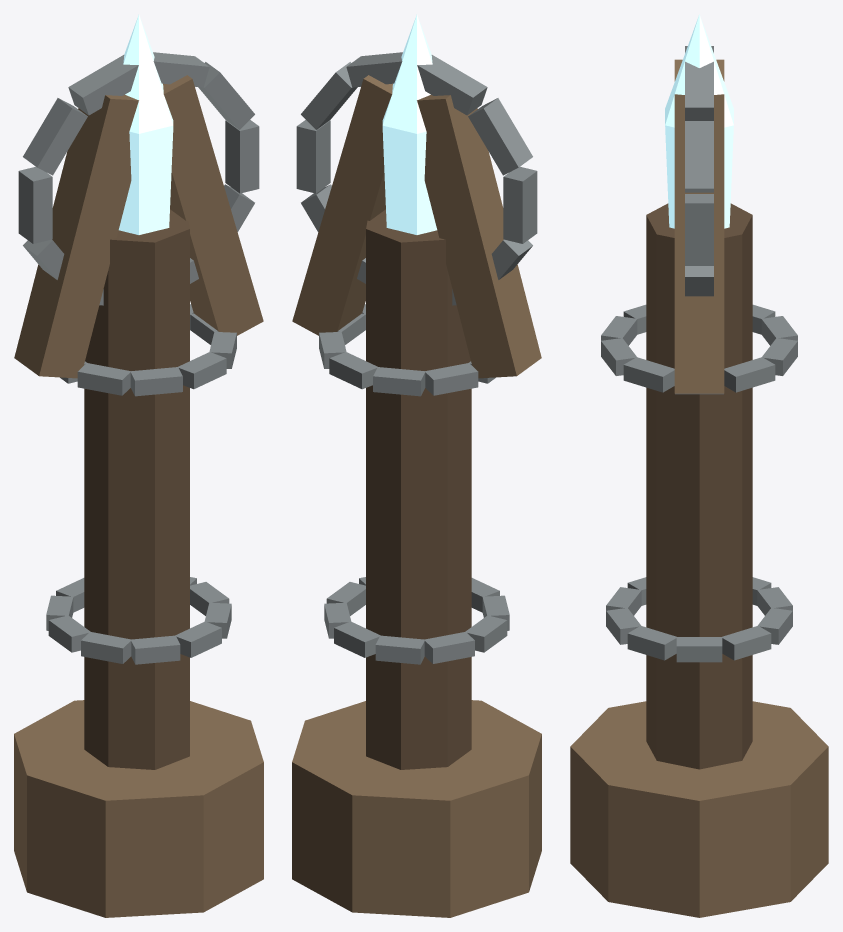
File: runed-totem.glb
3 renders of one model, left to right at view 1: azimuth 30°, elevation 25°; view 2: azimuth 150°, elevation 25°; view 3: azimuth 270°, elevation 25°, orthographic.
Visible parts, largest first — view 1: shaft, base, left-fork, right-fork, totem-crystal, socket-ring-4, socket-ring-5, socket-ring-0, socket-ring-3, socket-ring-1, socket-ring-2, binding-high-4 (+13 smaller); view 2: shaft, base, left-fork, right-fork, totem-crystal, socket-ring-4, socket-ring-5, socket-ring-0, socket-ring-3, socket-ring-1, socket-ring-2, binding-high-6 (+13 smaller); view 3: shaft, base, right-fork, totem-crystal, socket-ring-0, socket-ring-1, socket-ring-2, binding-high-1, binding-high-9, binding-low-1, binding-low-9, binding-low-0 (+9 smaller).
Boxes of the visible parts, x1,y1,x2,y2 form: shaft: (84,209,189,769); base: (14,700,263,917); left-fork: (14,95,138,378); right-fork: (163,75,263,335); totem-crystal: (118,14,173,234); socket-ring-4: (23,98,87,175); socket-ring-5: (18,166,52,243); socket-ring-0: (225,120,259,193); socket-ring-3: (68,55,138,115); socket-ring-1: (198,62,254,129); socket-ring-2: (153,52,209,87); binding-high-4: (77,363,130,395); shaft: (366,209,471,769); base: (292,700,541,917); left-fork: (417,95,541,378); right-fork: (292,75,392,335); totem-crystal: (382,14,437,234); socket-ring-4: (468,98,532,175); socket-ring-5: (503,166,537,243); socket-ring-0: (296,120,330,193); socket-ring-3: (417,55,487,115); socket-ring-1: (301,62,357,129); socket-ring-2: (346,52,402,87); binding-high-6: (425,363,478,395); shaft: (646,203,752,769); base: (570,701,828,917); right-fork: (674,94,724,393); totem-crystal: (665,14,733,228); socket-ring-0: (685,194,713,265); socket-ring-1: (685,121,713,192); socket-ring-2: (685,61,713,120); binding-high-1: (623,357,674,392); binding-high-9: (724,357,775,392); binding-low-1: (627,626,676,660); binding-low-9: (722,626,771,660); binding-low-0: (676,637,722,662).
Bounding box in the file's own units: 0.525 × 1.89 × 0.52.
